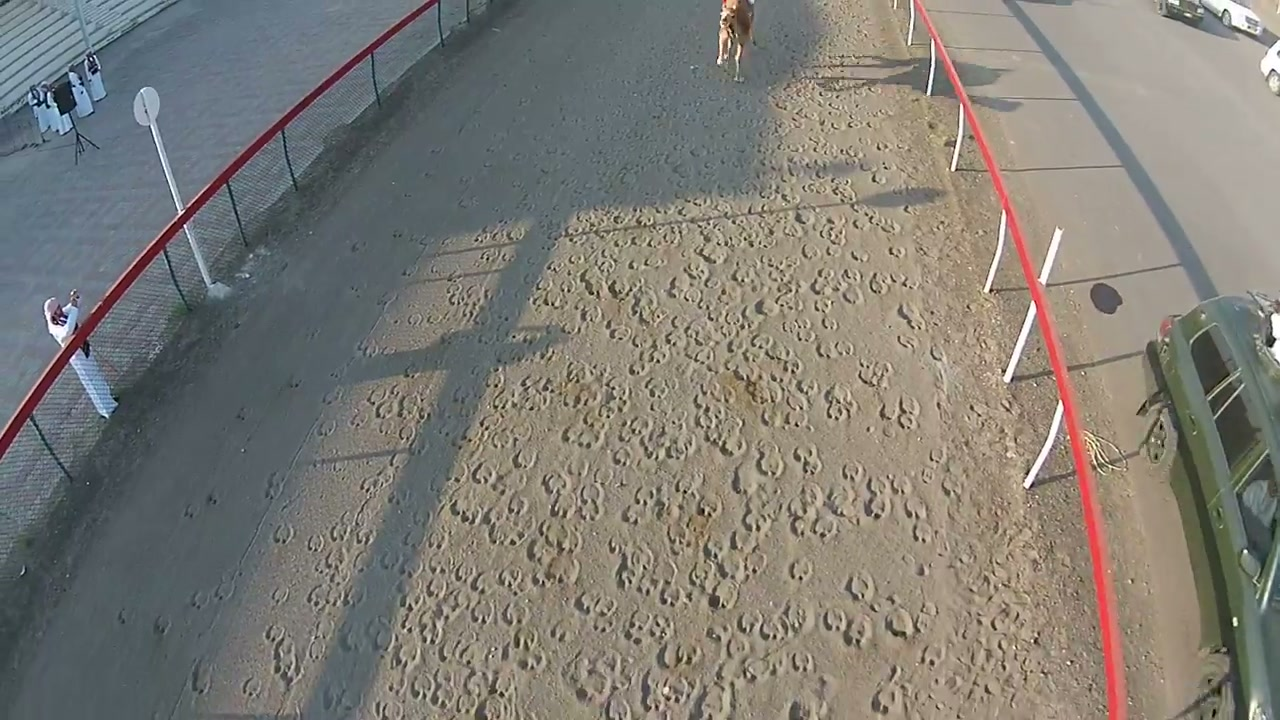animal_foot_print: (164, 79, 1048, 719), (870, 666, 910, 715), (823, 384, 857, 422), (864, 475, 893, 519), (842, 612, 874, 648), (858, 361, 893, 389)
